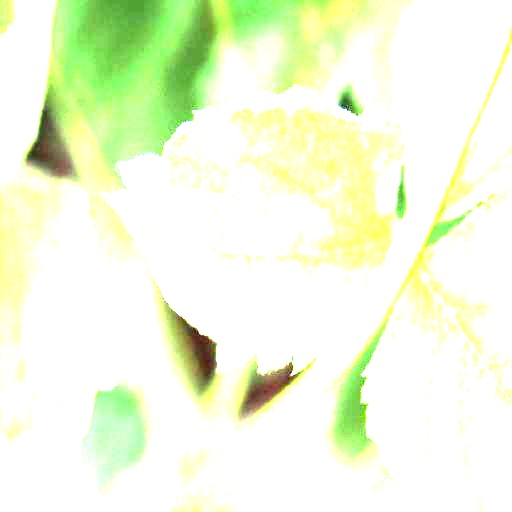Powdery Mildew Leaf: (99, 86, 407, 373), (359, 182, 511, 511), (395, 0, 511, 227)
